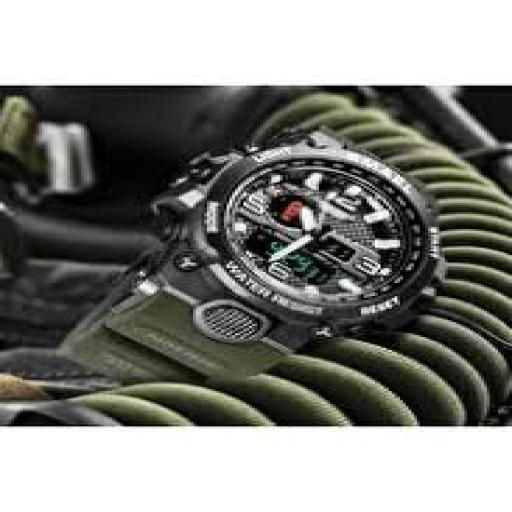KolSaati: (46, 92, 489, 410)
